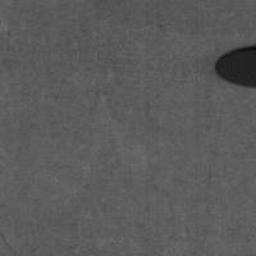Punching: (215, 45, 256, 88)
